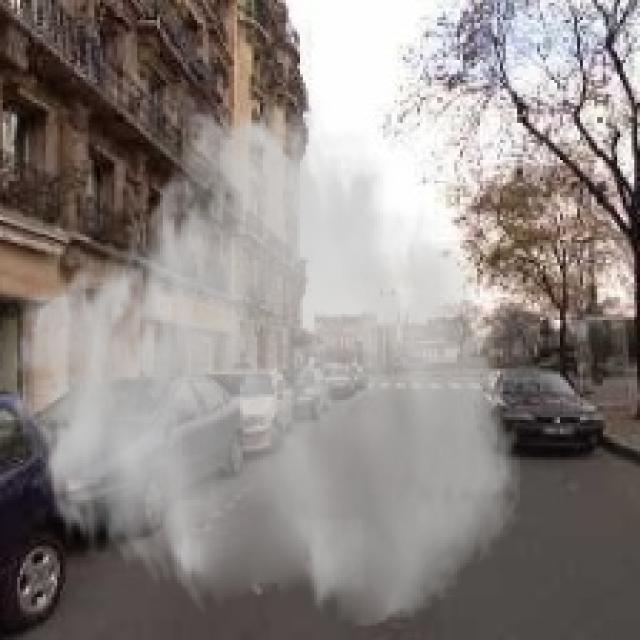Smoke: (8, 79, 526, 632)
